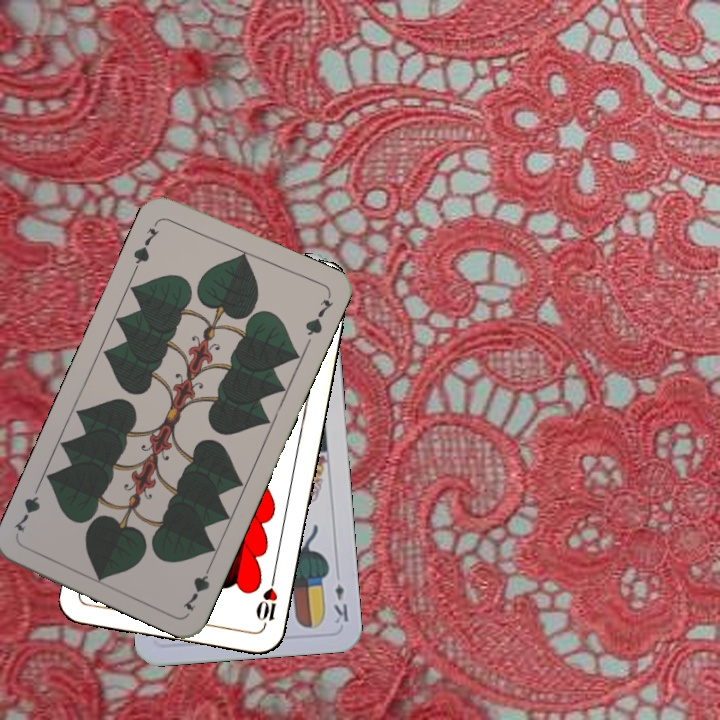EK: (330, 580, 351, 626)
G7: (178, 558, 215, 614), (129, 224, 161, 273)
H10: (252, 572, 280, 631)
